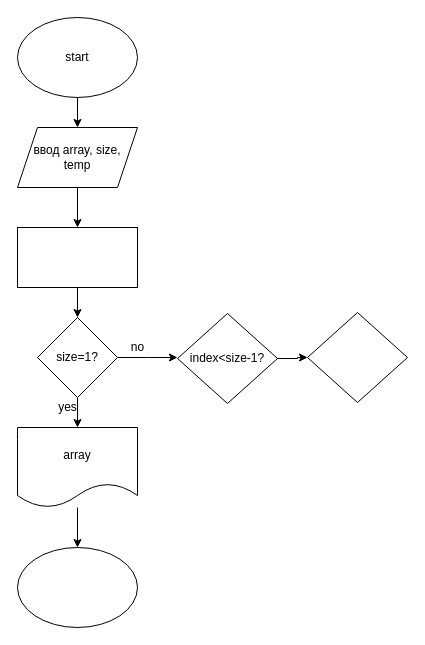
Image size: 425x645. Some labels were removed from this diagram. The shapes that lost their labels are listed below. From the top down, each one's centre as x and y in pixels, then its label:
At [77,257]: "index=0".
At [77,587]: "finish".
